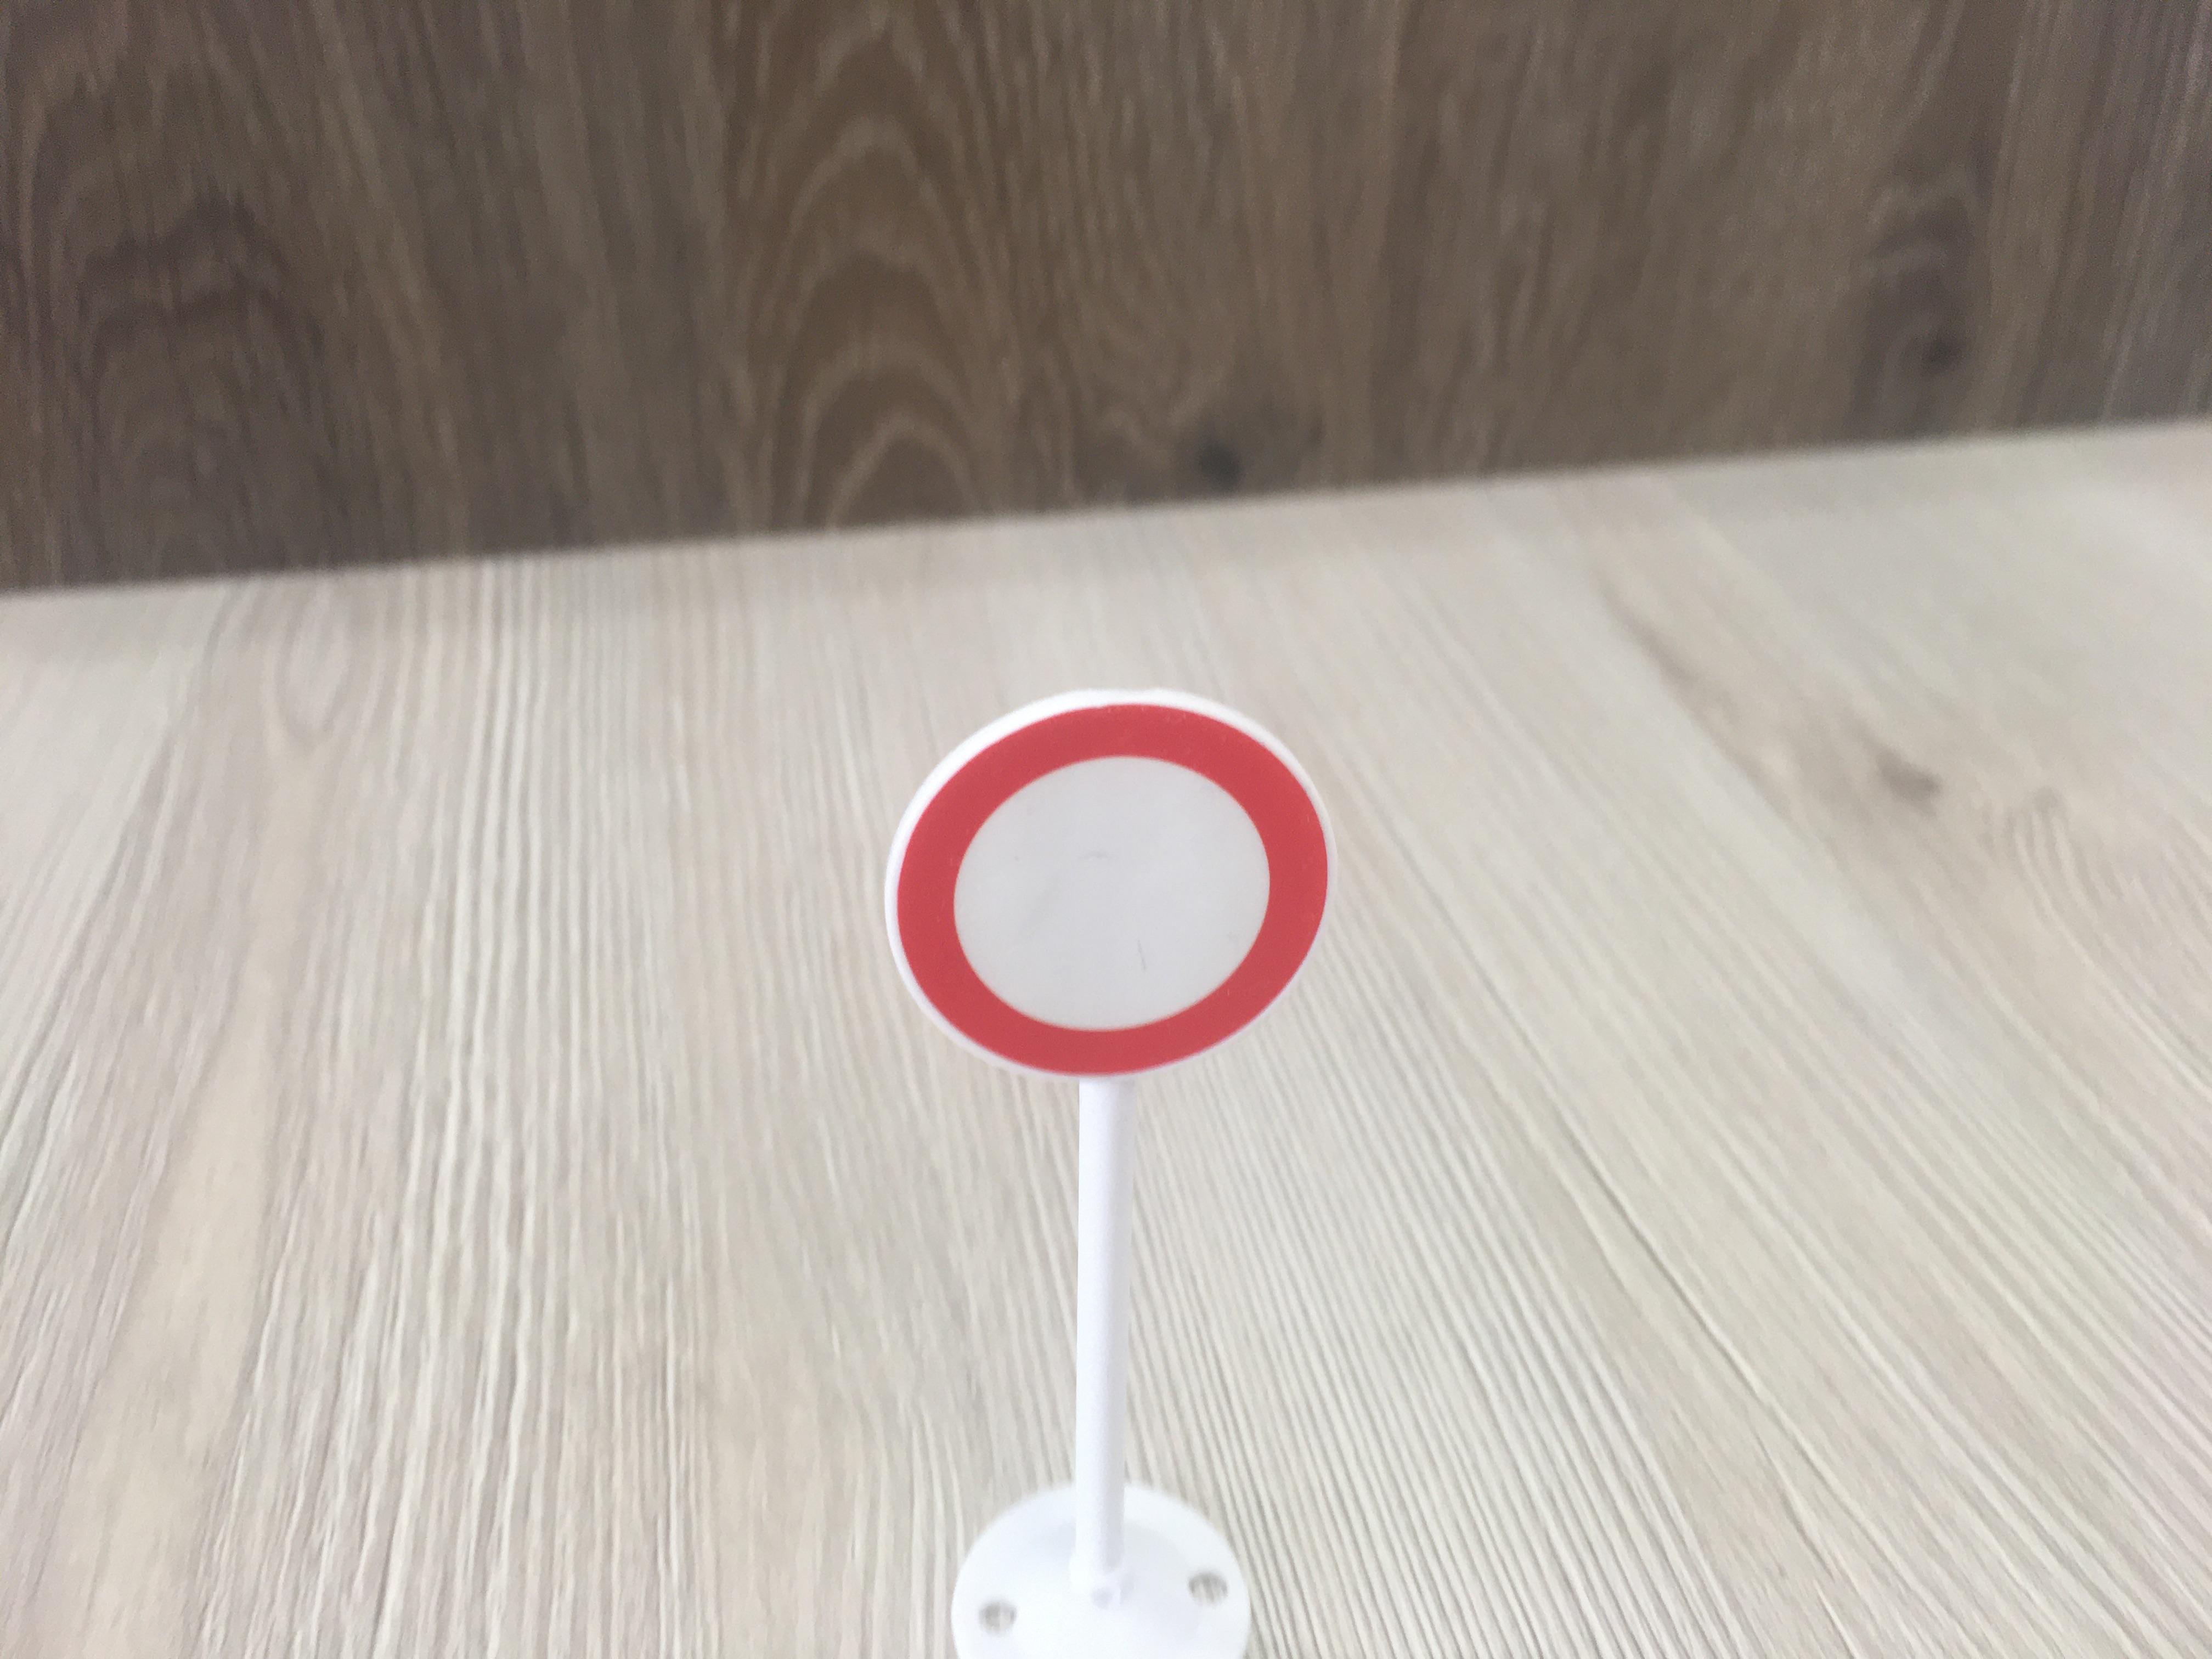noDrive: (885, 697, 1331, 1087)
